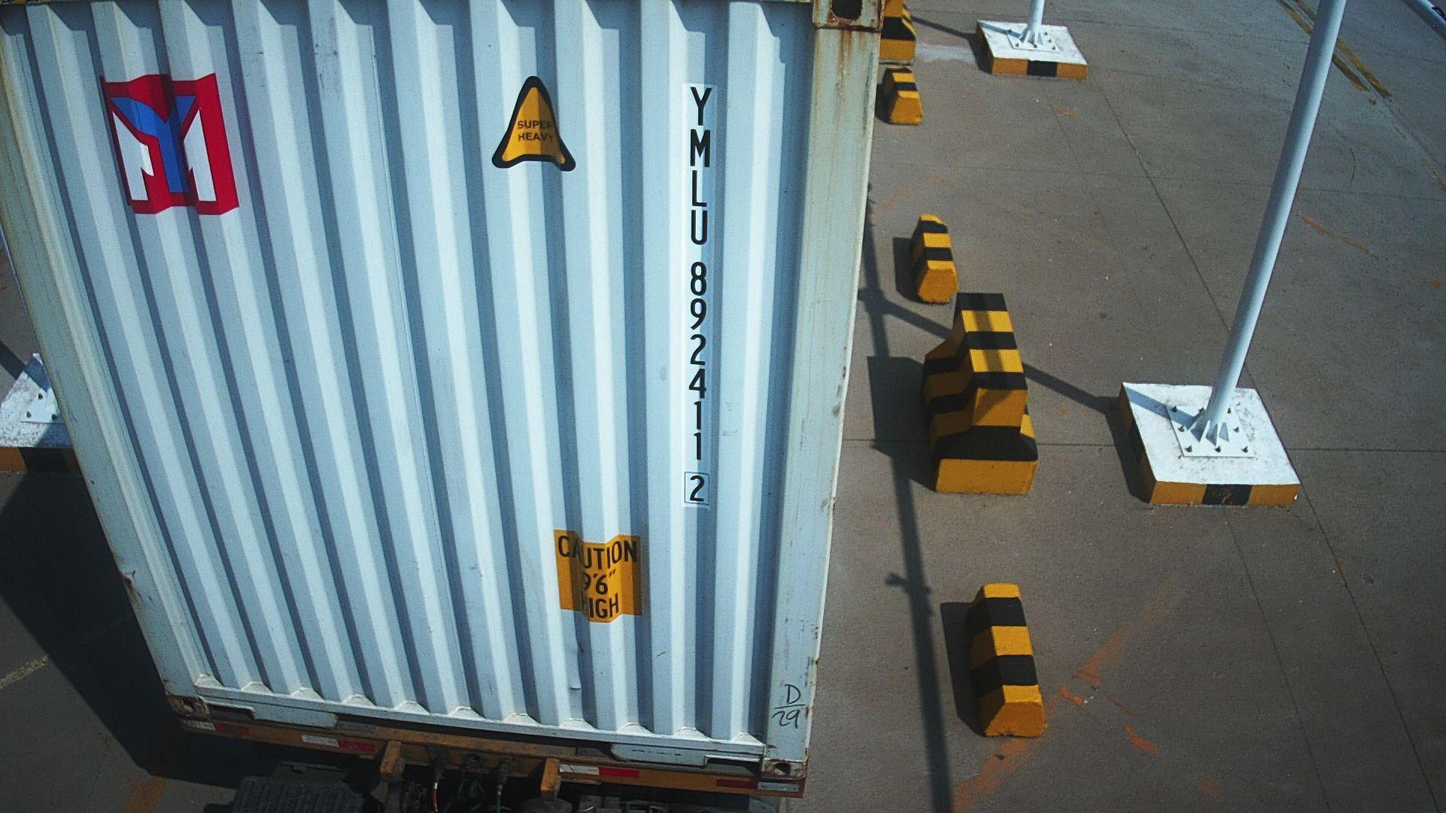container-numbers: (678, 78, 720, 511)
